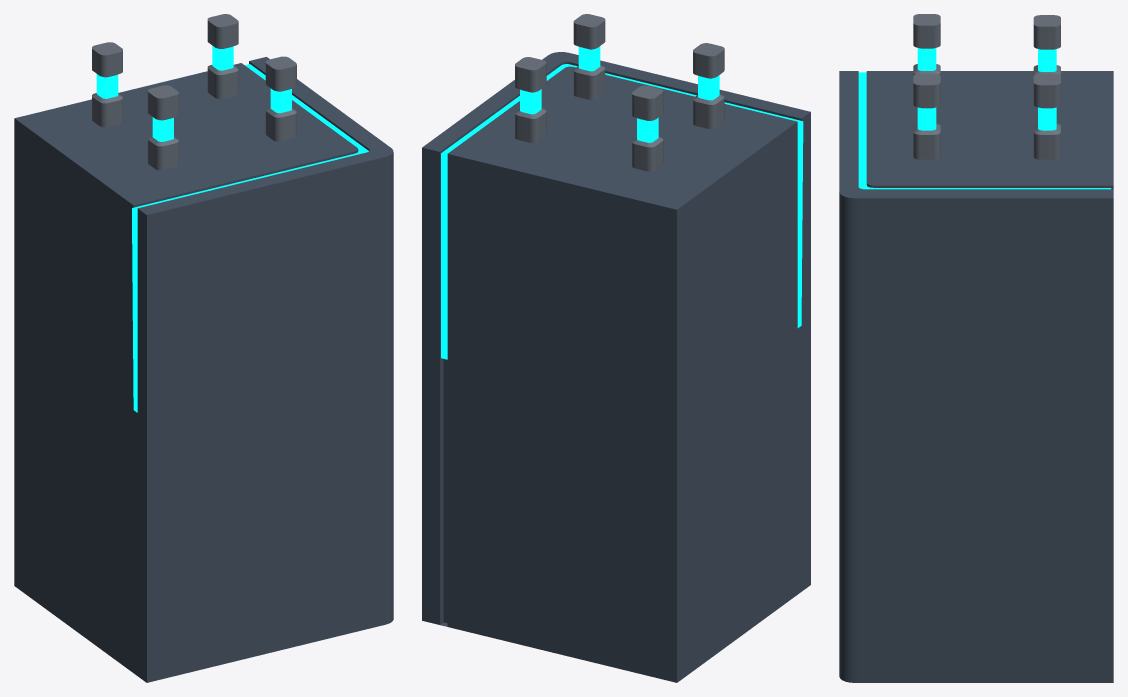
The model's file is Nivel_2-Modulo6.fbx.
The picture shows the model from 3 angles, left to right: view 1: azimuth 30°, elevation 25°; view 2: azimuth 150°, elevation 25°; view 3: azimuth 270°, elevation 25°; orthographic projection. The views are drawn at different scales.
Visible parts, largest first — view 1: polySurface17, Part6_2, columna2, columna1, columna3, columna4, polySurface18; view 2: polySurface17, Part6_2, columna2, columna4, columna1, columna3, polySurface18; view 3: polySurface17, columna2, columna3, Part6_2, polySurface18, columna1, columna4, polySurface7, polySurface5, polySurface9, polySurface11.
Boxes of the visible parts, x1=… form: polySurface17: x1=14, y1=57, x2=393, y2=682; Part6_2: x1=132, y1=64, x2=368, y2=412; columna2: x1=265, y1=56, x2=296, y2=141; columna1: x1=147, y1=85, x2=178, y2=170; columna3: x1=207, y1=14, x2=238, y2=99; columna4: x1=92, y1=42, x2=122, y2=127; polySurface18: x1=174, y1=119, x2=226, y2=145; polySurface17: x1=422, y1=52, x2=810, y2=682; Part6_2: x1=441, y1=64, x2=803, y2=359; columna2: x1=573, y1=14, x2=605, y2=99; columna4: x1=632, y1=85, x2=663, y2=171; columna1: x1=693, y1=43, x2=724, y2=129; columna3: x1=515, y1=57, x2=546, y2=142; polySurface18: x1=583, y1=122, x2=636, y2=149; polySurface17: x1=839, y1=71, x2=1113, y2=682; columna2: x1=913, y1=73, x2=940, y2=159; columna3: x1=1033, y1=73, x2=1060, y2=159; Part6_2: x1=858, y1=72, x2=1111, y2=189; polySurface18: x1=963, y1=120, x2=1017, y2=143; columna1: x1=913, y1=14, x2=940, y2=75; columna4: x1=1033, y1=15, x2=1060, y2=75; polySurface7: x1=917, y1=107, x2=936, y2=130; polySurface5: x1=917, y1=48, x2=936, y2=70; polySurface9: x1=1038, y1=107, x2=1056, y2=130; polySurface11: x1=1038, y1=49, x2=1056, y2=71.
Bounding box in the file's own units: 11.08 × 22.75 × 10.
